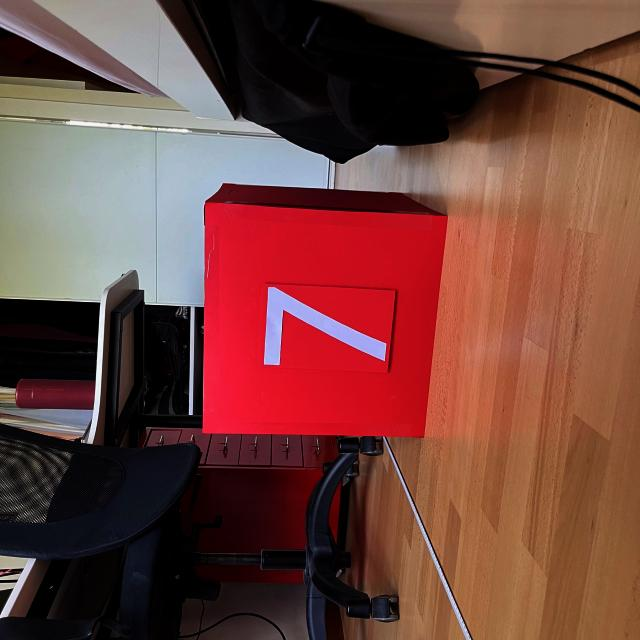box: (197, 178, 451, 440)
